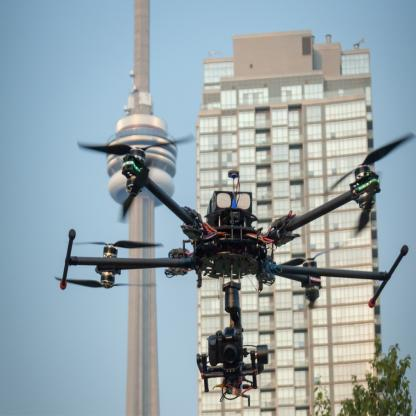drone: (38, 121, 416, 322)
